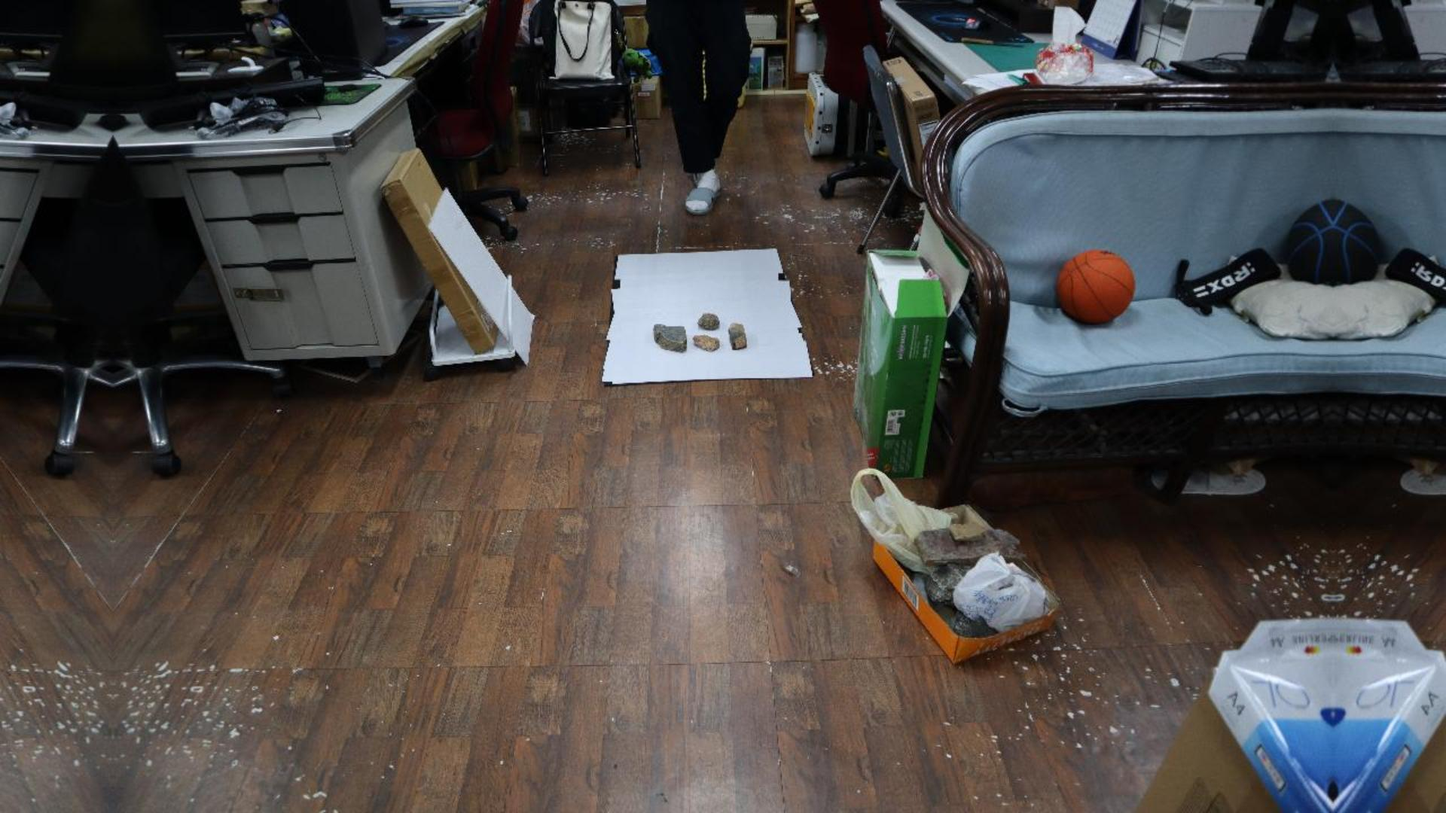rock: (653, 324, 686, 351), (728, 322, 746, 349), (692, 334, 720, 351), (697, 312, 718, 330)
